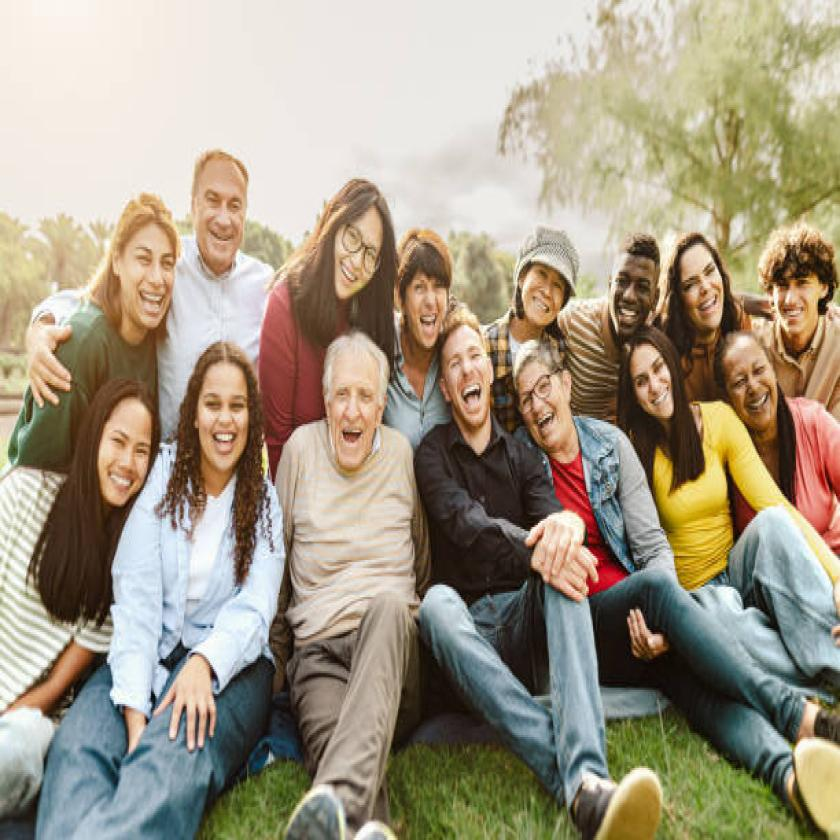Sin_casco: (182, 330, 262, 530), (74, 343, 161, 526), (306, 327, 397, 485), (101, 178, 180, 358), (310, 161, 394, 309), (762, 204, 840, 353), (181, 137, 260, 281), (588, 208, 668, 346), (709, 307, 795, 431), (507, 335, 585, 463), (435, 308, 492, 468), (395, 214, 458, 358), (661, 222, 730, 330), (618, 330, 682, 427)
